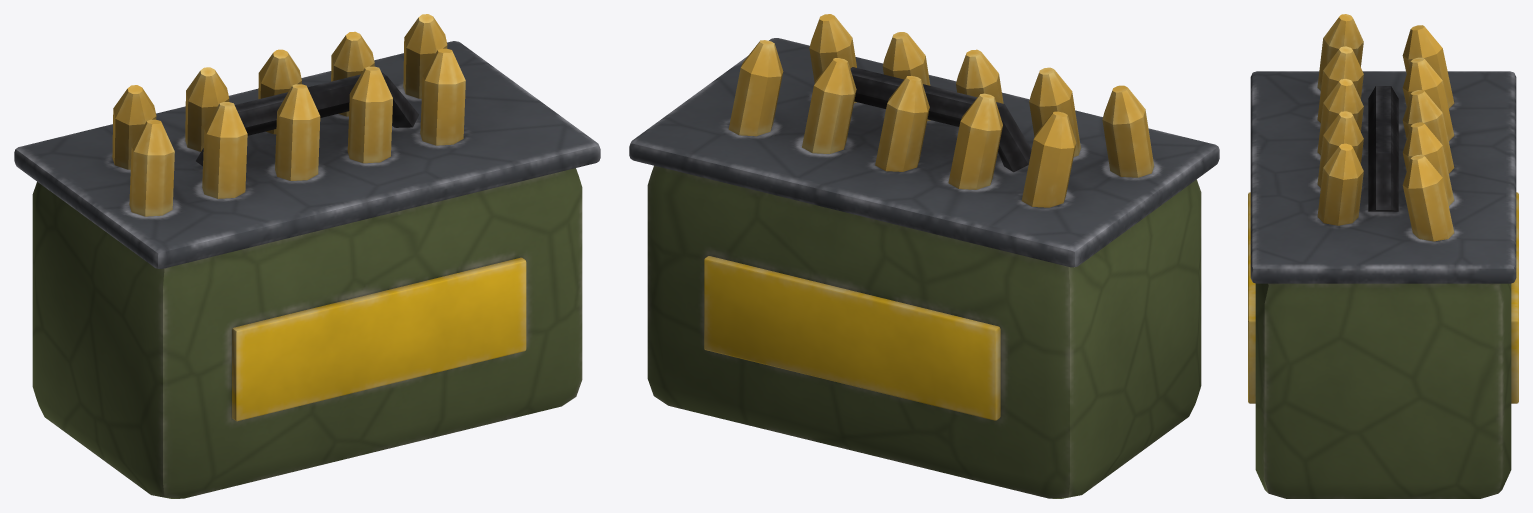
The model's file is pk_clipbox.glb.
3 renders of one model, left to right at view 1: azimuth 30°, elevation 25°; view 2: azimuth 150°, elevation 25°; view 3: azimuth 270°, elevation 25°, orthographic. The views are drawn at different scales.
Visible parts, largest first — view 1: pk_clipbox; view 2: pk_clipbox; view 3: pk_clipbox.
Part boxes in pixels (x1,y1,x2,y2): pk_clipbox: (14,14,600,498); pk_clipbox: (629,14,1219,498); pk_clipbox: (1248,14,1518,498).
Bounding box in the file's own units: 0.575 × 0.4314 × 0.3312.
1 material, 1 textured.
